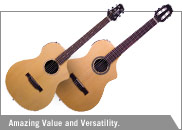guitar: (5, 3, 125, 111), (56, 3, 174, 112)
